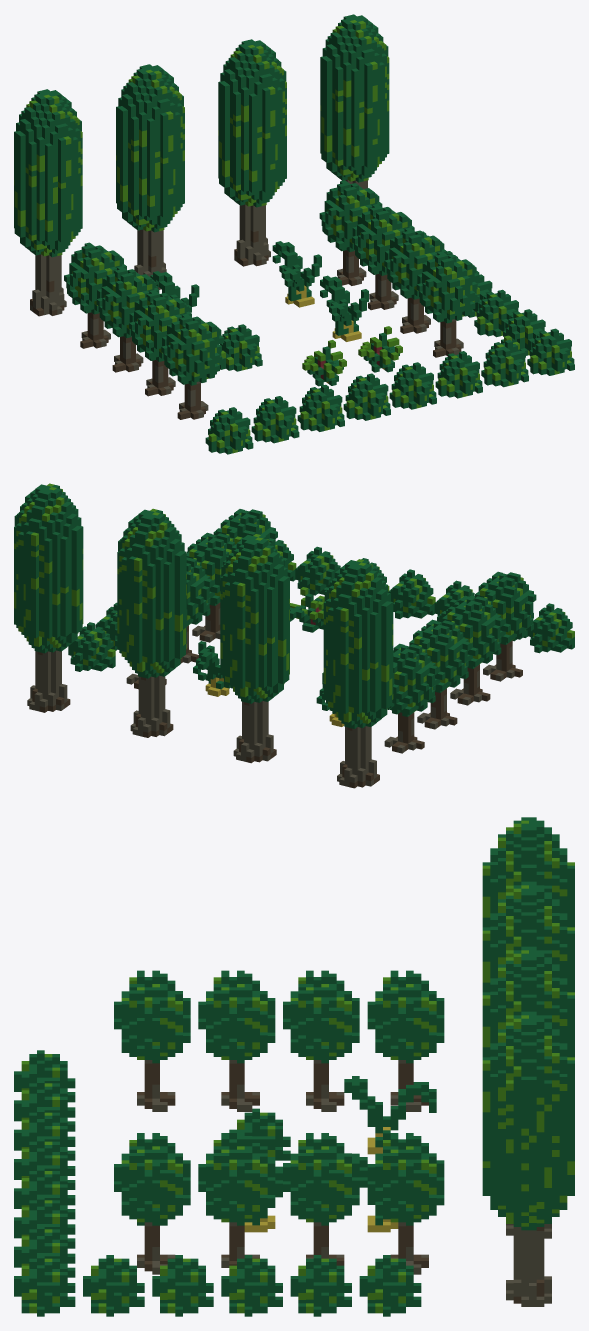
The model's file is trees_2_overtile.obj.
3 renders of one model, top to bottom at view 1: azimuth 30°, elevation 25°; view 2: azimuth 150°, elevation 25°; view 3: azimuth 270°, elevation 25°, orthographic. The views are drawn at different scales.
Bounding box in the file's own units: 7.2 × 4 × 7.3.
Materials: 1 (1 with a texture image).
